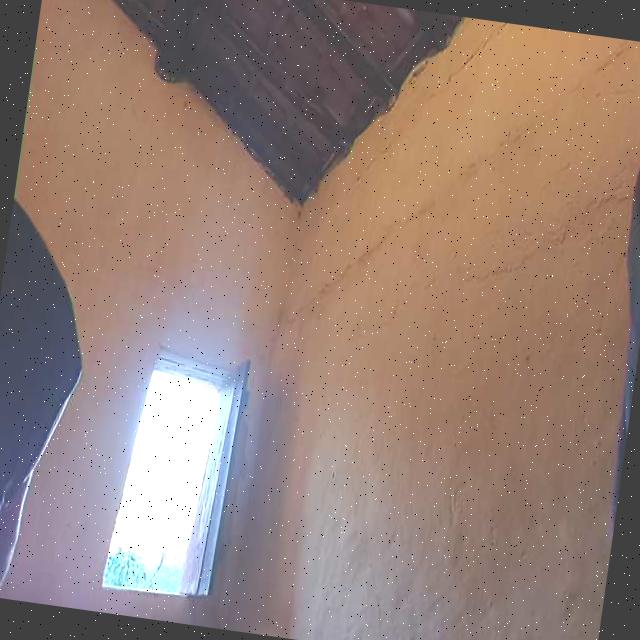colete: (0, 254, 91, 496)
pessoa: (0, 264, 87, 602)
